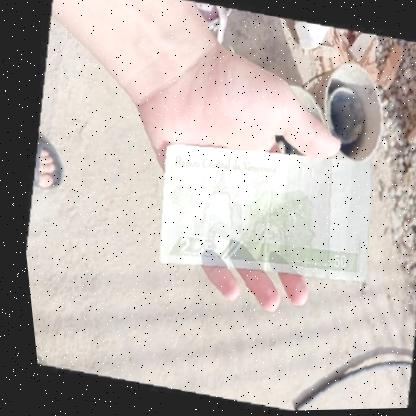fifty-back-vef: (142, 134, 378, 292)
